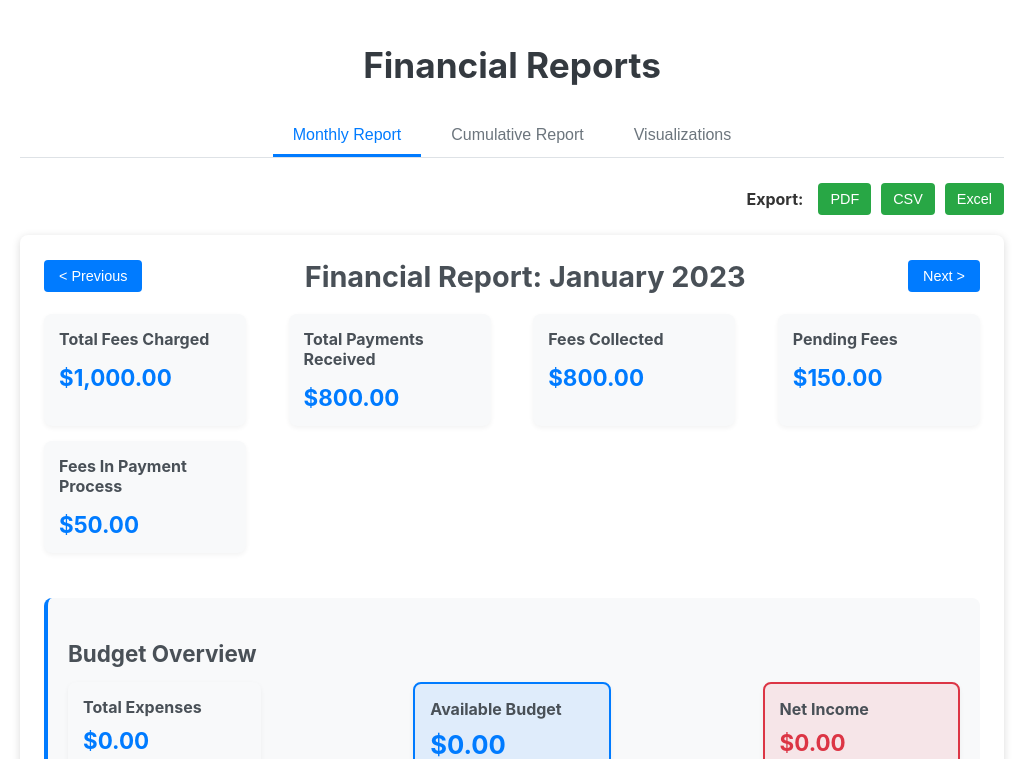
FinancialReports Comprehensive Component › displays data visualizations when visualization tab is clicked
Note: Click visualization tab
Click the button with test id "visualization-tab": (682, 136) [614,116,751,157]
(page scrolled)
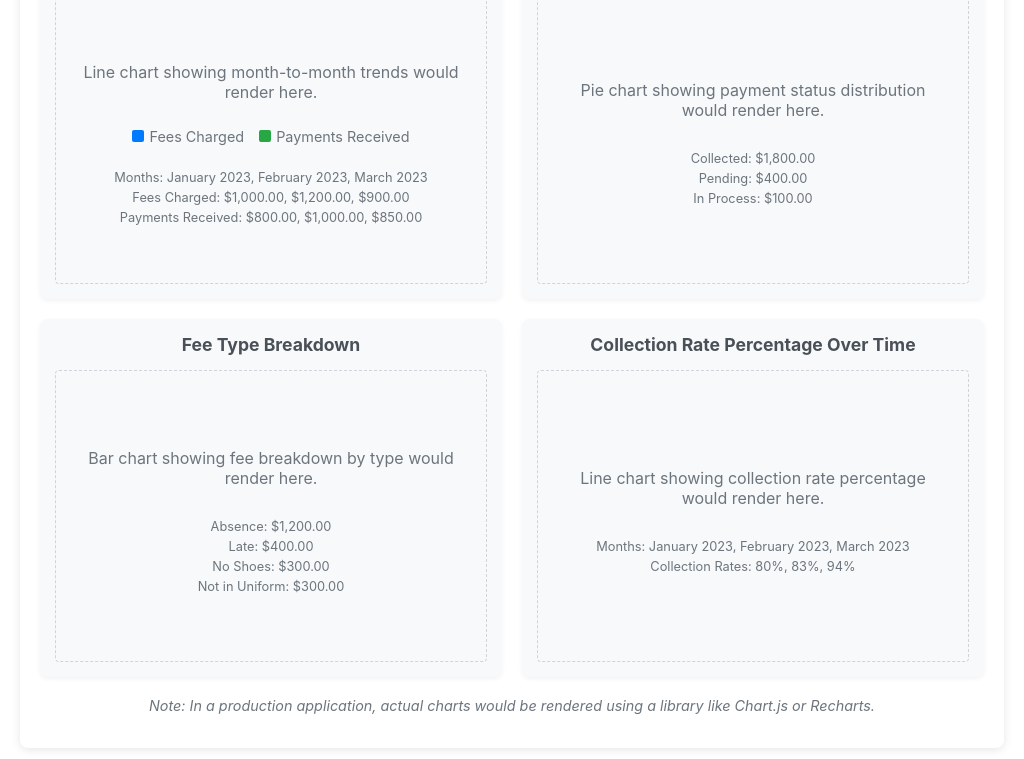
Expected: the element with test id "fee-breakdown-chart" is shown, [40,319,502,677]
Expected: the element with test id "collection-rate-chart" is shown, [522,319,984,677]
